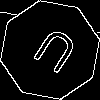U: (25, 25, 81, 84)
